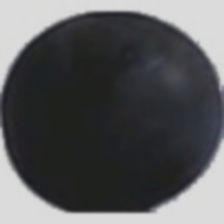grapes: (32, 18, 224, 194)
